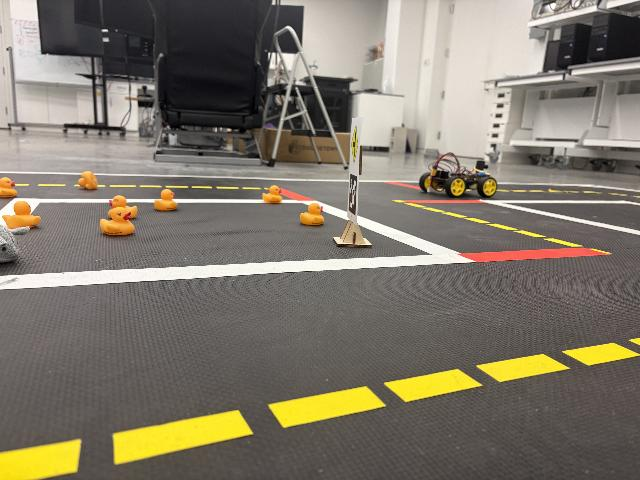duck: (2, 200, 41, 229), (100, 207, 135, 236), (108, 195, 138, 220), (299, 203, 325, 226), (154, 189, 178, 211), (262, 185, 282, 204), (78, 171, 98, 190), (0, 177, 17, 198)
mouse: (0, 224, 30, 262)
redline: (457, 247, 610, 263)
whiteline: (0, 253, 476, 290), (300, 200, 480, 263), (11, 197, 317, 204), (0, 197, 43, 230)
yellowline: (0, 337, 639, 480)
